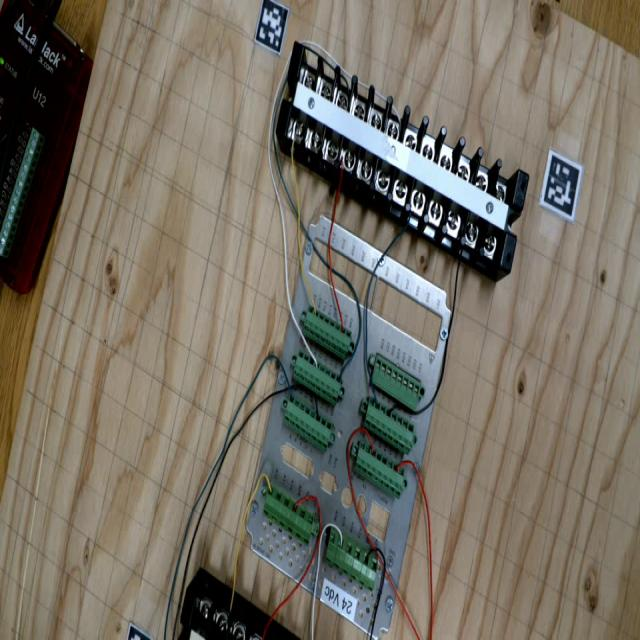Flathead_Block: (177, 587, 274, 640)
Phillips_Block: (250, 37, 557, 271)
Terminal_1: (314, 526, 390, 592), (253, 481, 327, 546)
Terminal_2: (345, 438, 416, 500), (354, 395, 424, 455), (275, 393, 342, 453), (294, 304, 362, 361), (285, 349, 351, 407)
